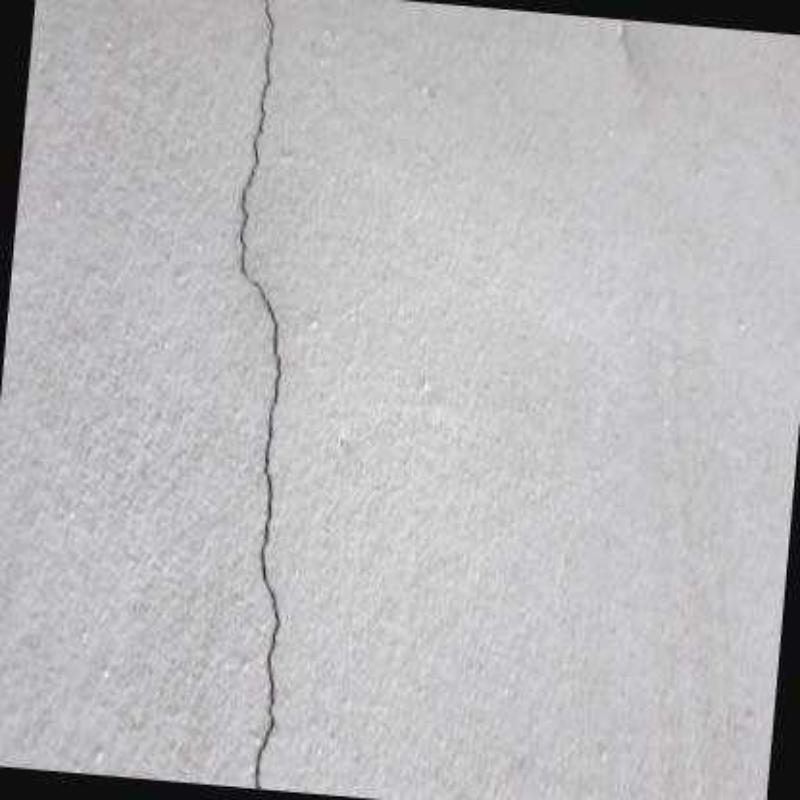pothole: (240, 0, 281, 789)
